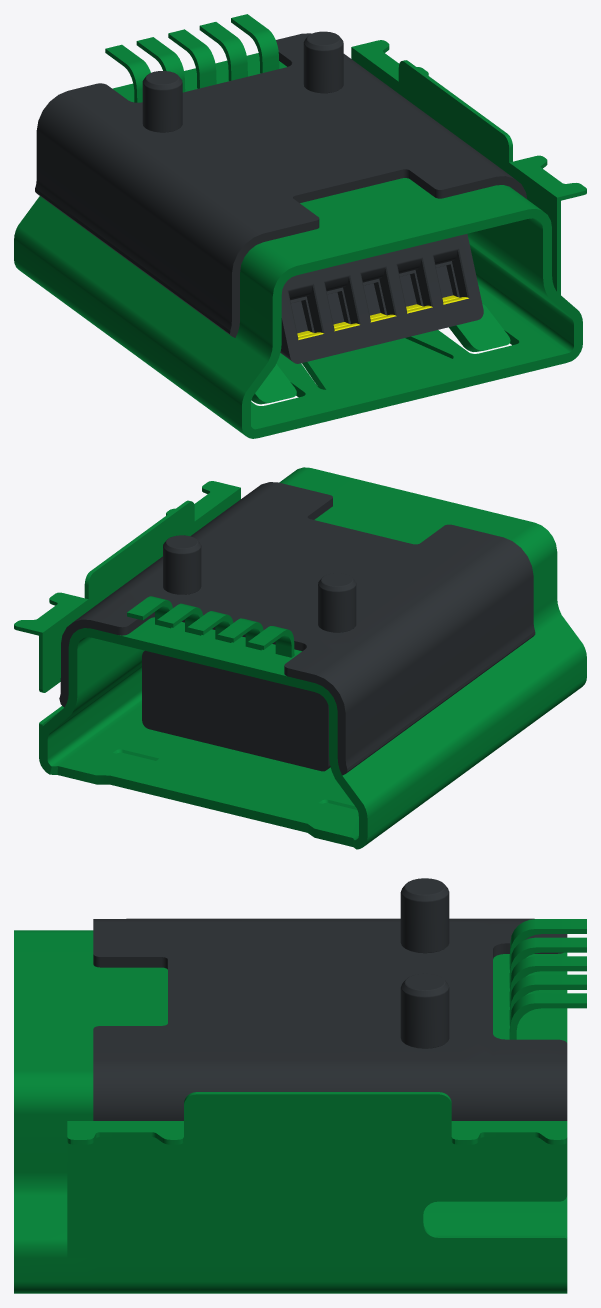
Rendered from usb.fbx.
3 views of the same model, one above another, from view 1: azimuth 30°, elevation 25°; view 2: azimuth 150°, elevation 25°; view 3: azimuth 270°, elevation 25° (orthographic). The views are drawn at different scales.
Visible parts, largest first — view 1: polySurface35, polySurface27, pCube13, pCylinder2, pCylinder1, polySurface33, pCube17, pCube18, pCube14, pCube16, polySurface29, pCube15 (+1 smaller); view 2: polySurface35, polySurface27, pCube13, pCylinder1, pCylinder2, polySurface36, pCube16, pCube15, pCube17, pCube14, pCube18; view 3: polySurface35, polySurface27, pCylinder1, pCylinder2, polySurface36, pCube18, pCube17, pCube14, pCube15, pCube16.
Part boxes in pixels (x1,y1,x2,y2): polySurface35: (14,46,586,438); polySurface27: (35,33,526,337); pCube13: (280,234,483,363); pCylinder2: (303,31,343,93); pCylinder1: (142,71,182,132); polySurface33: (449,304,510,351); pCube17: (199,22,247,80); pCube18: (231,14,279,73); pCube14: (168,29,216,88); pCube16: (105,44,150,102); polySurface29: (251,364,296,404); pCube15: (136,37,185,92); polySurface35: (39,467,586,849); polySurface27: (59,482,535,775); pCube13: (142,650,330,771); pCylinder1: (318,573,356,632); pCylinder2: (163,535,201,594); polySurface36: (14,592,84,635); pCube16: (248,626,294,657); pCube15: (217,618,263,650); pCube17: (157,603,202,635); pCube14: (187,611,233,642); pCube18: (127,596,172,628); polySurface35: (14,930,567,1293); polySurface27: (93,918,567,1120); pCylinder1: (400,878,449,953); pCylinder2: (400,973,449,1048); polySurface36: (451,1123,567,1144); pCube18: (509,993,586,1039); pCube17: (509,974,586,1025); pCube14: (509,956,586,1006); pCube15: (509,937,586,987); pCube16: (509,919,586,969).
Bounding box in the file's own units: 1.76 × 1.01 × 1.95.
